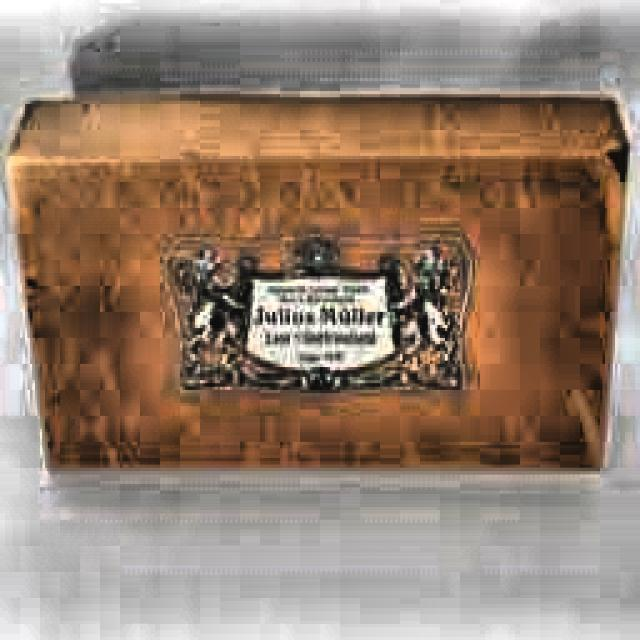cardboard: (2, 91, 626, 471)
